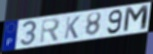3: (20, 19, 38, 48)
8: (84, 12, 103, 38)
9: (107, 9, 124, 35)
K: (63, 15, 81, 40)
M: (122, 4, 151, 35)
R: (39, 17, 62, 45)
